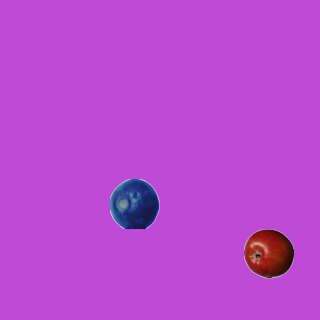Apple Braeburn: (243, 228, 293, 278)
Huckleberry: (109, 178, 159, 228)
